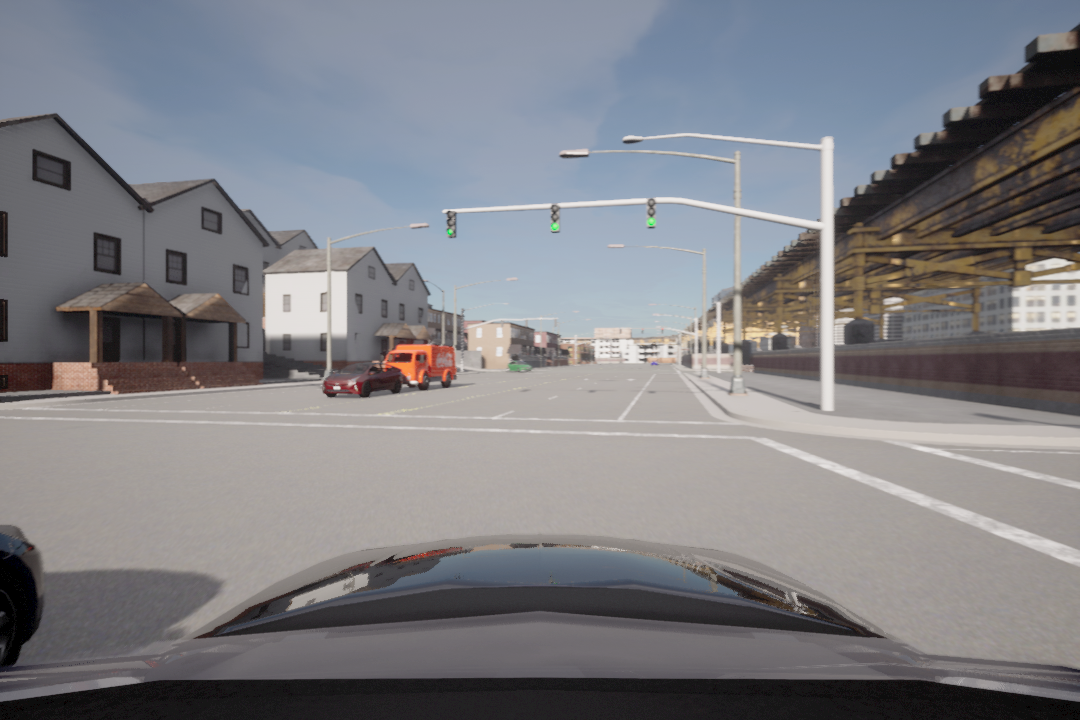TrafficLight: (646, 195, 664, 229), (446, 206, 460, 244), (547, 201, 562, 235)
